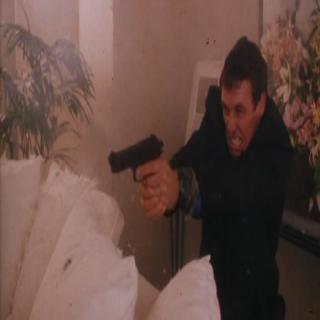gun: (107, 128, 172, 221)
